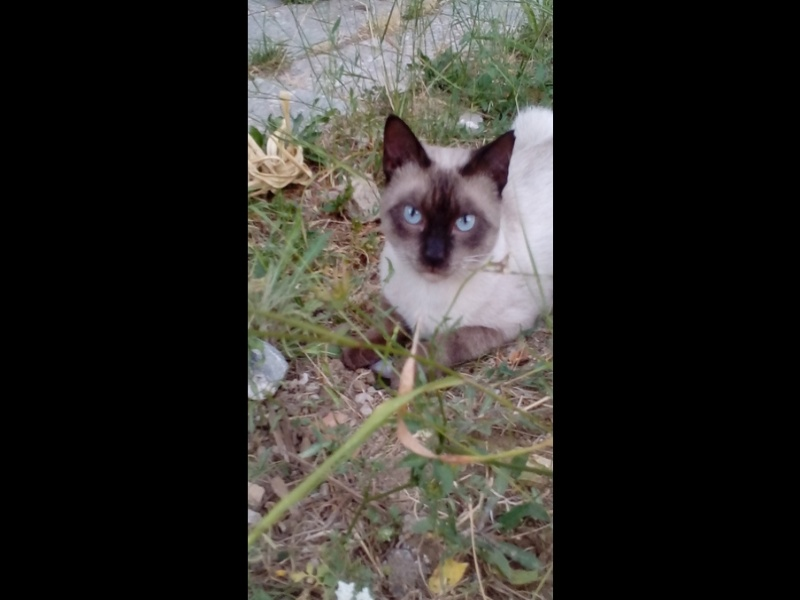cat: (340, 84, 555, 387)
